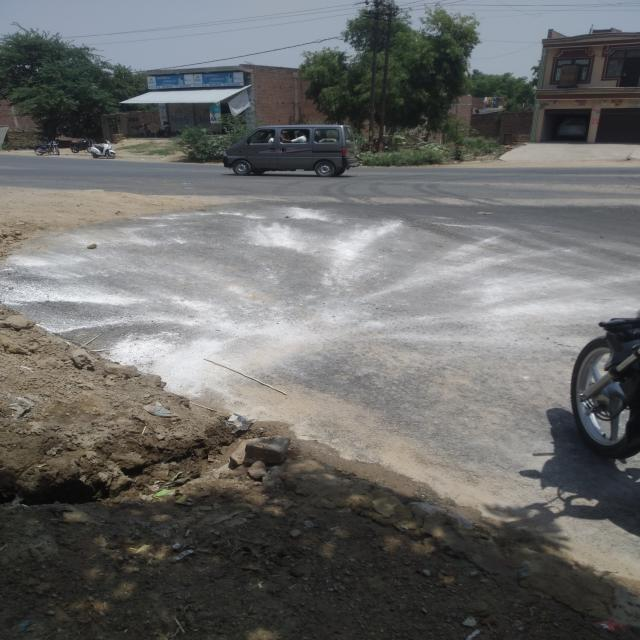Traveller: (222, 125, 360, 176)
Two Wheeler: (572, 318, 640, 459)
